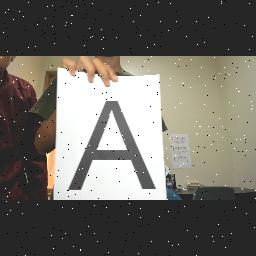a: (68, 96, 160, 194)
